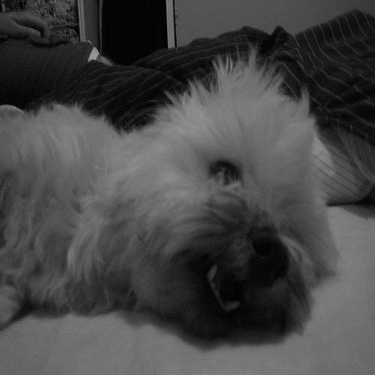dog: (3, 48, 344, 346)
